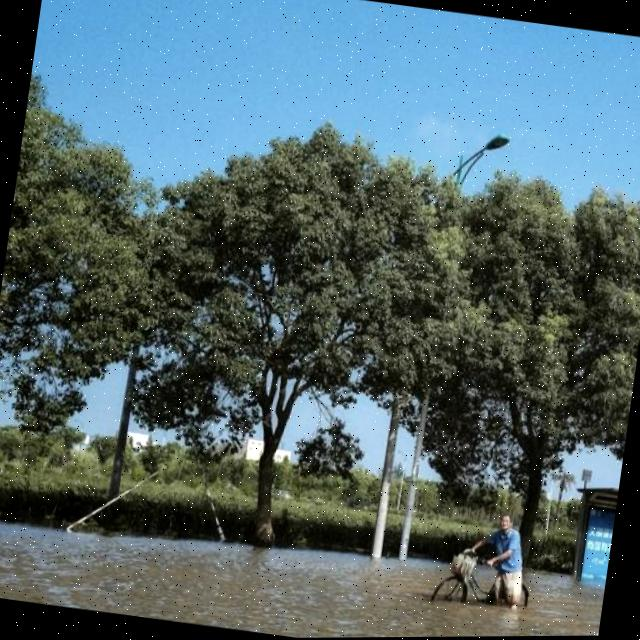civilian: (454, 500, 536, 630)
